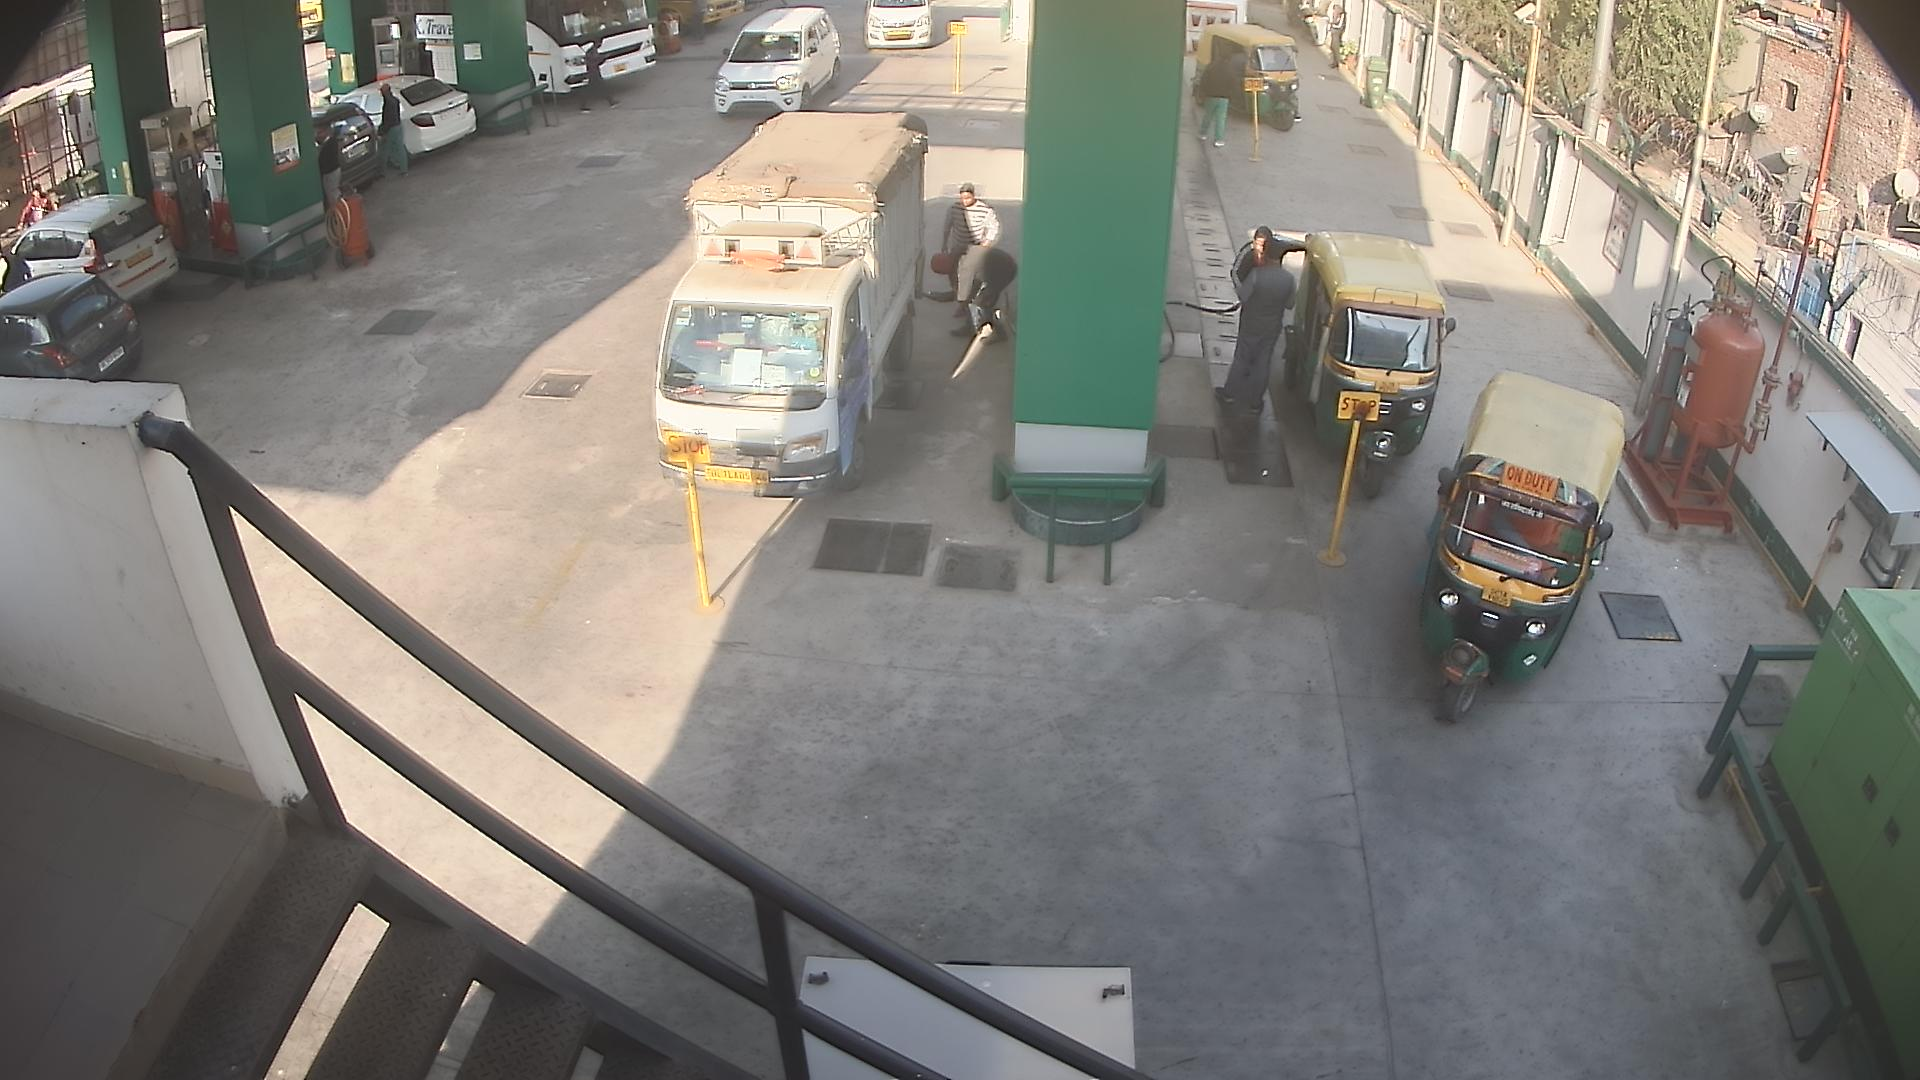Auto: (1415, 357, 1626, 725), (1276, 214, 1453, 502), (1189, 9, 1304, 138)
Car: (3, 173, 195, 318), (3, 252, 152, 411), (705, 1, 855, 129), (313, 66, 488, 173), (285, 86, 394, 206), (856, 0, 959, 58)
HMV: (624, 84, 948, 516), (498, 0, 674, 111), (640, 0, 761, 45)
Others Other: (657, 417, 733, 630), (1309, 372, 1379, 578), (1242, 65, 1278, 173), (943, 11, 975, 111)
